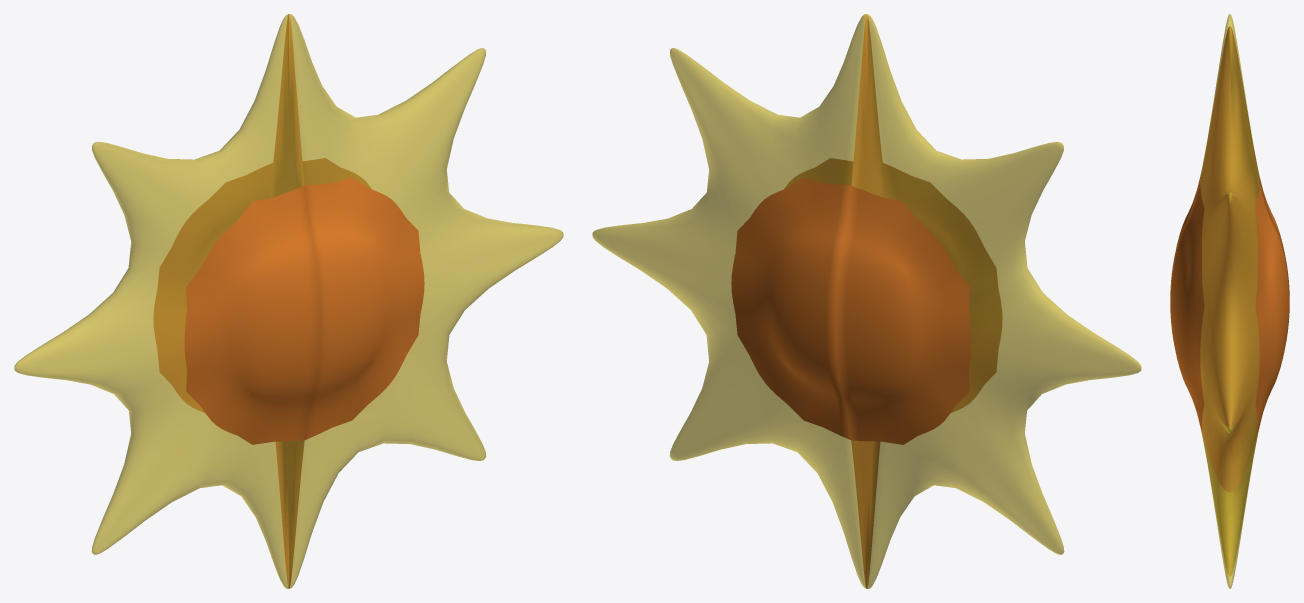
Rendered from Sun.fbx.
3 views of the same model, side by side, from view 1: azimuth 30°, elevation 25°; view 2: azimuth 150°, elevation 25°; view 3: azimuth 270°, elevation 25° (orthographic). The views are drawn at different scales.
Parts seen in each view (by area): view 1: Cube; view 2: Cube; view 3: Cube.
Part boxes in pixels (x1=…): Cube: x1=14, y1=14, x2=563, y2=588; Cube: x1=592, y1=14, x2=1141, y2=588; Cube: x1=1170, y1=14, x2=1289, y2=588.
Bounding box in the file's own units: 586 × 587 × 116.
